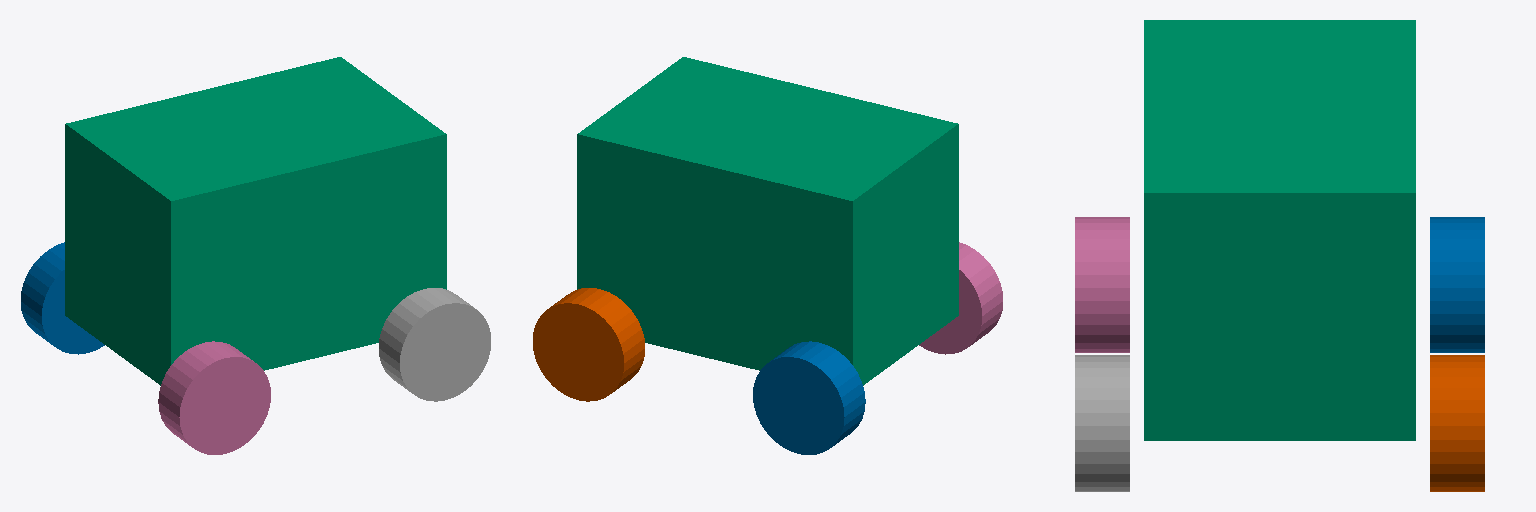
The robot description file, URDF, robot "treasure_car":
<?xml version='1.0' encoding='utf-8'?>
<robot name="treasure_car">
  <link name="IMU_1">
    <inertial>
      <mass value="0.01" />
      <inertia ixx="1e-06" ixy="0" ixz="0" iyy="1e-06" iyz="0" izz="1e-06" />
    </inertial>
    <visual>
      <geometry>
        <box size="0.03 0.02 0.01" />
      </geometry>
    </visual>
    <collision>
      <geometry>
        <box size="0.03 0.02 0.01" />
      </geometry>
    </collision>
  </link>
  <link name="base_footprint" />
  <link name="car_body">
    <inertial>
      <mass value="1.2" />
      <inertia ixx="0.008" ixy="0" ixz="0" iyy="0.013" iyz="0" izz="0.013" />
    </inertial>
    <visual>
      <geometry>
        <box size="0.3 0.2 0.2" />
      </geometry>
    </visual>
    <collision>
      <geometry>
        <box size="0.3 0.2 0.2" />
      </geometry>
    </collision>
  </link>
  <link name="ld06_lidar" />
  <link name="left_behind_wheel">
    <inertial>
      <origin xyz="-1.609165e-09 2.463359e-09 5.841415e-09" rpy="0 0 0" />
      <mass value="0.2" />
      <inertia ixx="0.000152" ixy="0" ixz="0" iyy="0.000152" iyz="0" izz="0.00025" />
    </inertial>
    <visual>
      <origin xyz="0 0 7.450581e-09" rpy="1.570796 0 0" />
      <geometry>
        <cylinder radius="0.05" length="0.04" />
      </geometry>
    </visual>
    <collision>
      <origin xyz="0 0 0" rpy="1.570796 0 0" />
      <geometry>
        <cylinder radius="0.05" length="0.04" />
      </geometry>
    </collision>
  </link>
  <link name="left_front_wheel">
    <inertial>
      <origin xyz="1.609169e-09 2.463353e-09 -5.841412e-09" rpy="0 0 0" />
      <mass value="0.2" />
      <inertia ixx="0.000152" ixy="0" ixz="0" iyy="0.000152" iyz="0" izz="0.00025" />
    </inertial>
    <visual>
      <origin xyz="0 0 -7.450581e-09" rpy="1.570796 0 0" />
      <geometry>
        <cylinder radius="0.05" length="0.04" />
      </geometry>
    </visual>
    <collision>
      <origin xyz="0 0 0" rpy="1.570796 0 0" />
      <geometry>
        <cylinder radius="0.05" length="0.04" />
      </geometry>
    </collision>
  </link>
  <link name="right_behind_wheel">
    <inertial>
      <origin xyz="-1.609169e-09 -2.264933e-09 5.841411e-09" rpy="0 0 0" />
      <mass value="0.2" />
      <inertia ixx="0.000152" ixy="0" ixz="0" iyy="0.000152" iyz="0" izz="0.00025" />
    </inertial>
    <visual>
      <origin xyz="0 0 7.450581e-09" rpy="1.570796 0 0" />
      <geometry>
        <cylinder radius="0.05" length="0.04" />
      </geometry>
    </visual>
    <collision>
      <origin xyz="0 0 0" rpy="1.570796 0 0" />
      <geometry>
        <cylinder radius="0.05" length="0.04" />
      </geometry>
    </collision>
  </link>
  <link name="right_front_wheel">
    <inertial>
      <origin xyz="1.609165e-09 -2.264939e-09 -5.841416e-09" rpy="0 0 0" />
      <mass value="0.2" />
      <inertia ixx="0.000152" ixy="0" ixz="0" iyy="0.000152" iyz="0" izz="0.00025" />
    </inertial>
    <visual>
      <origin xyz="0 0 -7.450581e-09" rpy="1.570796 0 0" />
      <geometry>
        <cylinder radius="0.05" length="0.04" />
      </geometry>
    </visual>
    <collision>
      <origin xyz="0 0 0" rpy="1.570796 0 0" />
      <geometry>
        <cylinder radius="0.05" length="0.04" />
      </geometry>
    </collision>
  </link>
  <joint name="IMU_1_joint" type="fixed">
    <parent link="car_body" />
    <child link="IMU_1" />
  </joint>
  <joint name="base_footprint_joint" type="fixed">
    <parent link="base_footprint" />
    <child link="car_body" />
  </joint>
  <joint name="ld06_lidar_joint" type="fixed">
    <origin xyz="0.20 0 0" rpy="0 -1.570796 3.141593" />
    <parent link="car_body" />
    <child link="ld06_lidar" />
  </joint>
  <joint name="left_behind_wheel_joint" type="continuous">
    <origin xyz="-0.12 0.13 -0.1" rpy="0 0 0" />
    <parent link="car_body" />
    <child link="left_behind_wheel" />
    <axis xyz="0 1 0" />
    <limit effort="10" velocity="7.959" lower="0" upper="0" />
  </joint>
  <joint name="left_front_wheel_joint" type="continuous">
    <origin xyz="0.12 0.13 -0.1" rpy="0 0 0" />
    <parent link="car_body" />
    <child link="left_front_wheel" />
    <axis xyz="0 1 0" />
    <limit effort="10" velocity="7.959" lower="0" upper="0" />
  </joint>
  <joint name="right_behind_wheel_joint" type="continuous">
    <origin xyz="-0.12 -0.13 -0.1" rpy="0 0 0" />
    <parent link="car_body" />
    <child link="right_behind_wheel" />
    <axis xyz="0 1 0" />
    <limit effort="10" velocity="7.959" lower="0" upper="0" />
  </joint>
  <joint name="right_front_wheel_joint" type="continuous">
    <origin xyz="0.12 -0.13 -0.1" rpy="0 0 0" />
    <parent link="car_body" />
    <child link="right_front_wheel" />
    <axis xyz="0 1 0" />
    <limit effort="10" velocity="7.959" lower="0" upper="0" />
  </joint>
  <ros2_control name="GazeboSimSystem" type="system">
    <hardware>
      <plugin>gz_ros2_control/GazeboSimSystem</plugin>
    </hardware>
    <joint name="left_behind_wheel_joint">
      <command_interface name="velocity" />
      <state_interface name="position" />
      <state_interface name="velocity" />
    </joint>
    <joint name="left_front_wheel_joint">
      <command_interface name="velocity" />
      <state_interface name="position" />
      <state_interface name="velocity" />
    </joint>
    <joint name="right_behind_wheel_joint">
      <command_interface name="velocity" />
      <state_interface name="position" />
      <state_interface name="velocity" />
    </joint>
    <joint name="right_front_wheel_joint">
      <command_interface name="velocity" />
      <state_interface name="position" />
      <state_interface name="velocity" />
    </joint>
  </ros2_control>
  <gazebo>
    <plugin name="gz_ros2_control::GazeboSimROS2ControlPlugin" filename="gz_ros2_control-system">
      <parameters>/home/cbj/ros2_ws/install/treasure_robot/share/treasure_robot/config/controllers.yaml</parameters>
    </plugin>
  </gazebo>
  <gazebo reference="IMU_1">
    <sensor name="IMU_sensor" type="imu">
      <always_on>true</always_on>
      <update_rate>100</update_rate>
      <visualize>false</visualize>
      <topic>/imu/data</topic>
      <imu />
    </sensor>
  </gazebo>
  <gazebo reference="car_body">
    <sensor name="front_line_camera" type="camera">
      <always_on>true</always_on>
      <update_rate>30</update_rate>
      <visualize>false</visualize>
      <topic>/camera/image_raw</topic>
      <pose>0.15 0 0 0 1.134464 0</pose>
      <camera>
        <horizontal_fov>1.745329</horizontal_fov>
        <image>
          <width>640</width>
          <height>480</height>
          <format>R8G8B8</format>
        </image>
        <clip>
          <near>0.05</near>
          <far>10</far>
        </clip>
      </camera>
    </sensor>
  </gazebo>
  <gazebo reference="ld06_lidar">
    <sensor name="ld06_lidar" type="gpu_lidar">
      <always_on>true</always_on>
      <update_rate>10</update_rate>
      <visualize>false</visualize>
      <topic>/scan</topic>
      <ray>
        <scan>
          <horizontal>
            <samples>450</samples>
            <resolution>1</resolution>
            <min_angle>0</min_angle>
            <max_angle>6.283185</max_angle>
          </horizontal>
        </scan>
        <range>
          <min>0.02</min>
          <max>12</max>
          <resolution>0.01</resolution>
        </range>
      </ray>
      <gz_frame_id>ld06_lidar</gz_frame_id>
    </sensor>
  </gazebo>
</robot>

--- What the picture shows (computed from the rendered views, not written in the file) ---
The picture shows the robot from 3 angles, left to right: view 1: azimuth 30°, elevation 25°; view 2: azimuth 150°, elevation 25°; view 3: azimuth 270°, elevation 25°; orthographic projection.
Model treasure_car with 8 links and 7 joints (4 continuous, 3 fixed), rooted at base_footprint, posed every joint at zero.
Visible links, largest first — view 1: car_body, right_behind_wheel, right_front_wheel, left_behind_wheel; view 2: car_body, left_behind_wheel, left_front_wheel, right_behind_wheel; view 3: car_body, left_front_wheel, right_front_wheel, left_behind_wheel, right_behind_wheel.
Boxes of the visible links, x1=… form: car_body: x1=65, y1=57, x2=446, y2=385; right_behind_wheel: x1=158, y1=341, x2=270, y2=454; right_front_wheel: x1=379, y1=288, x2=490, y2=401; left_behind_wheel: x1=21, y1=242, x2=104, y2=354; car_body: x1=577, y1=57, x2=958, y2=385; left_behind_wheel: x1=753, y1=341, x2=865, y2=454; left_front_wheel: x1=533, y1=288, x2=644, y2=401; right_behind_wheel: x1=919, y1=242, x2=1002, y2=354; car_body: x1=1144, y1=20, x2=1415, y2=440; left_front_wheel: x1=1430, y1=355, x2=1484, y2=491; right_front_wheel: x1=1075, y1=355, x2=1129, y2=491; left_behind_wheel: x1=1430, y1=217, x2=1484, y2=352; right_behind_wheel: x1=1075, y1=217, x2=1129, y2=352.
Bounding box of the posed robot: 0.34 × 0.3 × 0.25 m (x, y, z).
Geometry: primitives only (box / cylinder / sphere), no mesh files.
